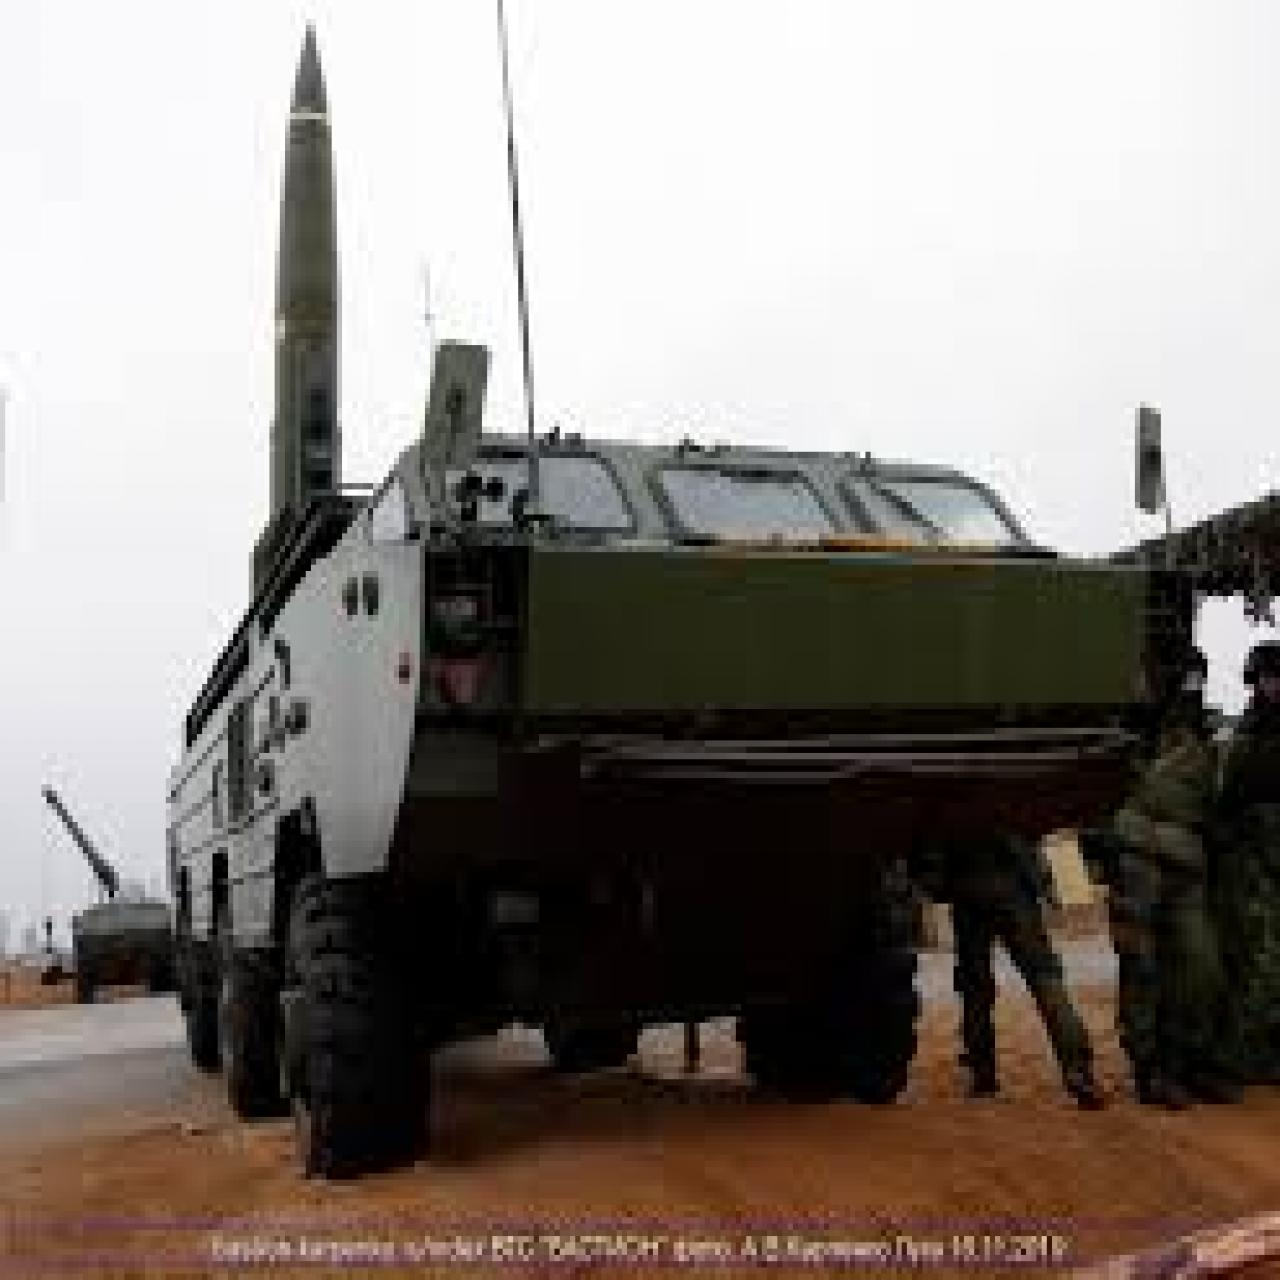MIL_Veh: (172, 27, 1149, 1160)
